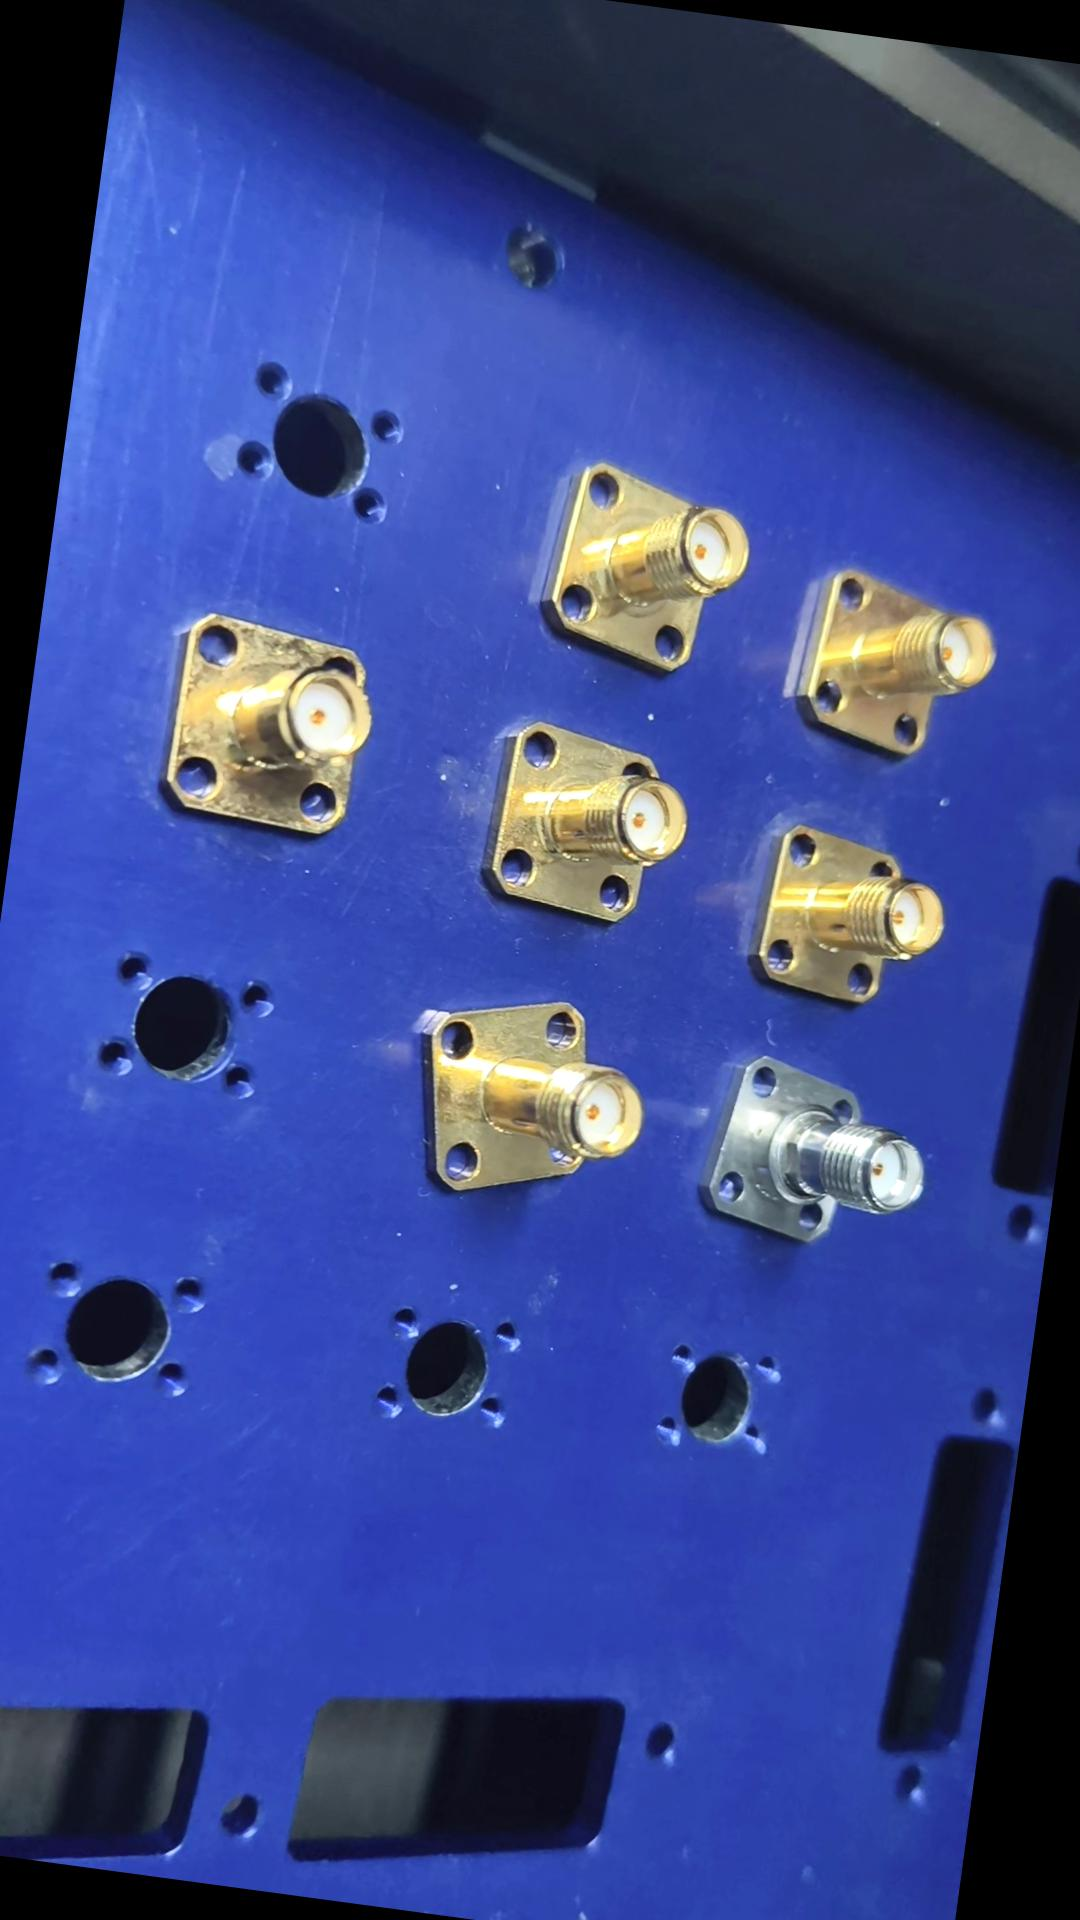SMA: (397, 980, 657, 1216), (148, 608, 386, 844), (688, 1044, 940, 1261), (465, 715, 703, 936), (524, 452, 752, 682), (782, 566, 1006, 769), (740, 814, 956, 1019)
